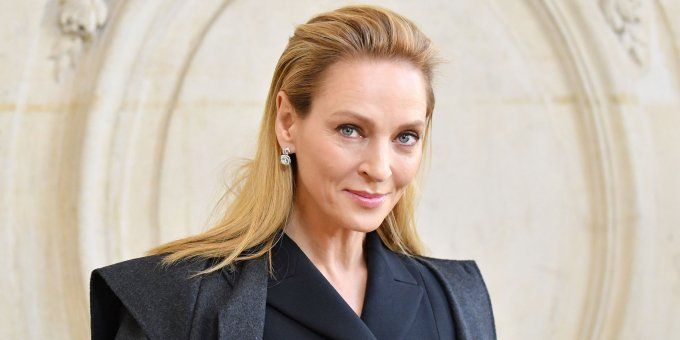without_mask: (293, 38, 411, 223)
